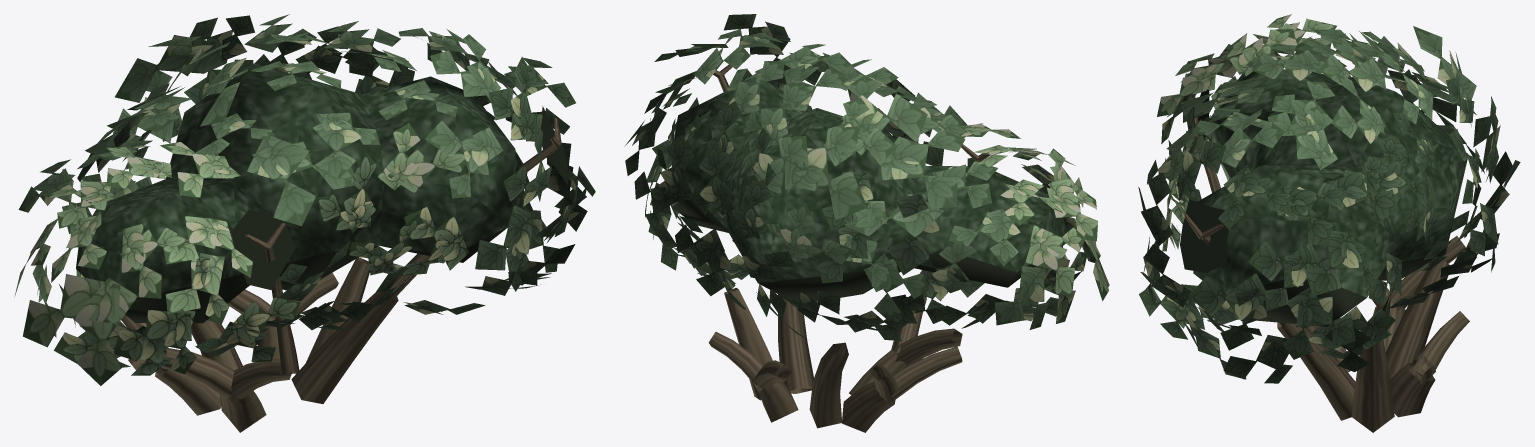
Rendered from bush_stems_far.glb.
3 renders of one model, left to right at view 1: azimuth 30°, elevation 25°; view 2: azimuth 150°, elevation 25°; view 3: azimuth 270°, elevation 25°, orthographic. The views are drawn at different scales.
Visible parts, largest first — view 1: bush_stems_lod1; view 2: bush_stems_lod1; view 3: bush_stems_lod1.
Part boxes in pixels (x1=…): bush_stems_lod1: x1=14, y1=14, x2=595, y2=432; bush_stems_lod1: x1=624, y1=14, x2=1109, y2=432; bush_stems_lod1: x1=1138, y1=14, x2=1520, y2=432.
Size of the model in its own units: 1.58 by 1.08 by 1.03.
Materials: 1 (1 with a texture image).
